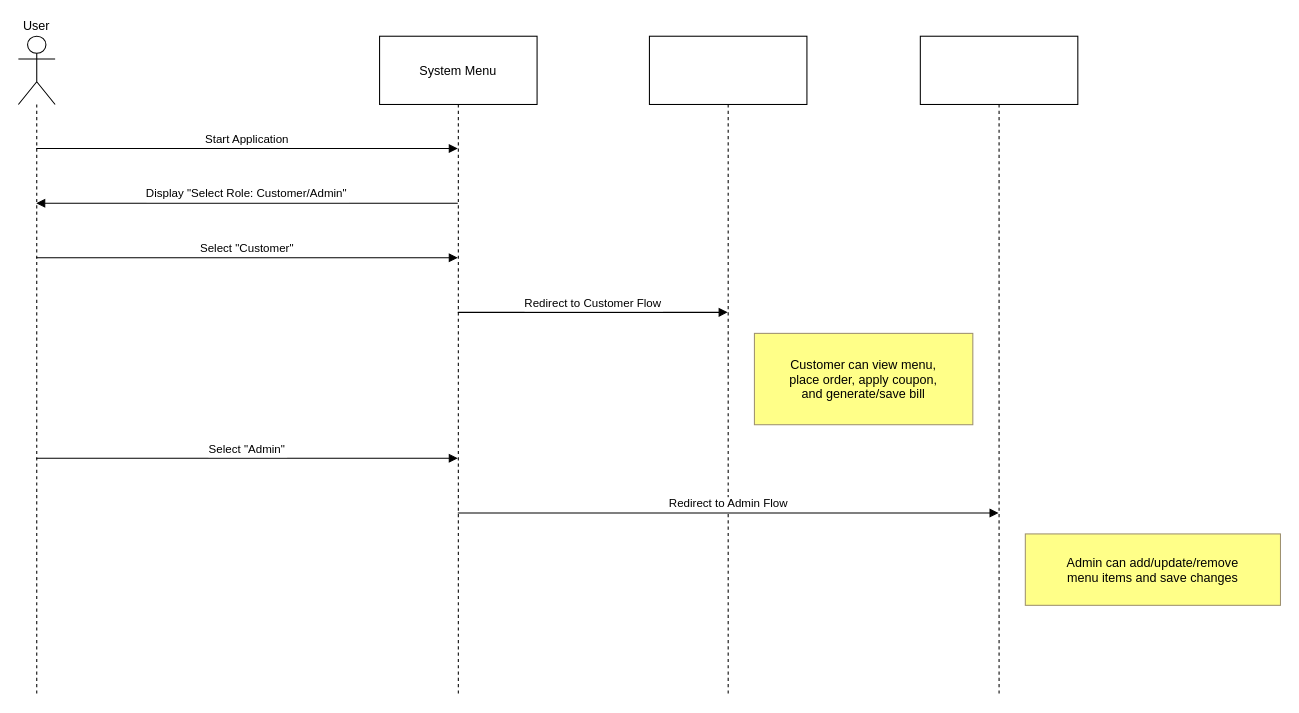
The diagram is 1299 pixels wide and 713 high, and some of its shapes have lost their labels. The box of each missing label's shape, as (x1, y1, x2, y2) in pixels:
Admin Module: (919, 35, 1078, 695)
Customer Module: (648, 35, 807, 695)
